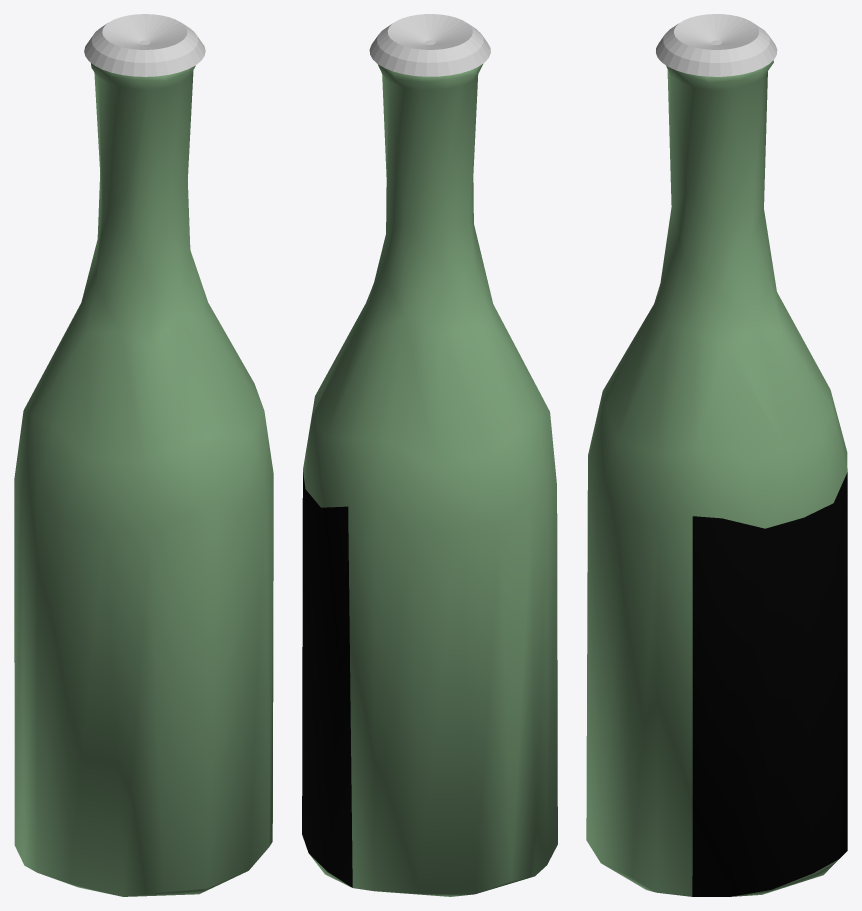
The model's file is bottle.fbx.
3 renders of one model, left to right at view 1: azimuth 30°, elevation 25°; view 2: azimuth 150°, elevation 25°; view 3: azimuth 270°, elevation 25°, orthographic.
Visible parts, largest first — view 1: Bottle_Kechkova_Craft_001, Bottle_Kechkova_Craft_Cap; view 2: Bottle_Kechkova_Craft_001, Bottle_Kechkova_Craft_Cap; view 3: Bottle_Kechkova_Craft_001, Bottle_Kechkova_Craft_Cap.
Boxes of the visible parts, x1,y1,x2,y2 form: Bottle_Kechkova_Craft_001: (14,63,273,896); Bottle_Kechkova_Craft_Cap: (84,14,205,76); Bottle_Kechkova_Craft_001: (302,63,557,896); Bottle_Kechkova_Craft_Cap: (369,14,490,76); Bottle_Kechkova_Craft_001: (586,60,847,896); Bottle_Kechkova_Craft_Cap: (656,14,777,76).
Bounding box in the file's own units: 15.02 × 52.11 × 15.06.
